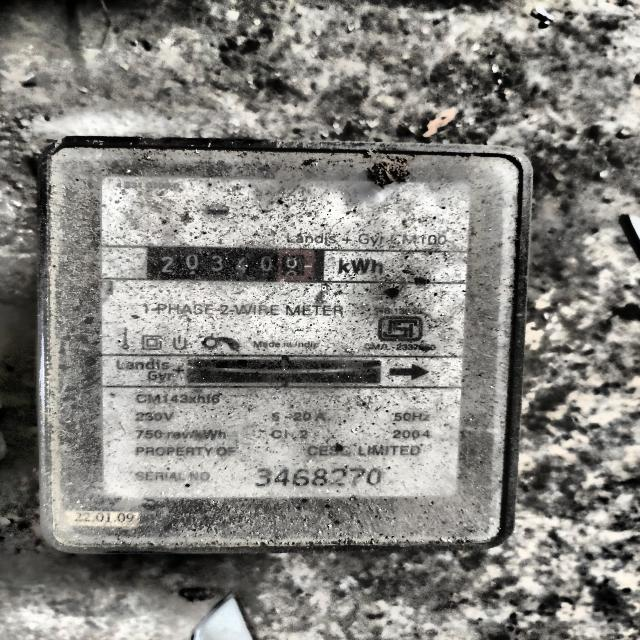Analog: (45, 142, 512, 543)
Reading: (151, 248, 321, 282)
Serial No.: (244, 466, 395, 490)
